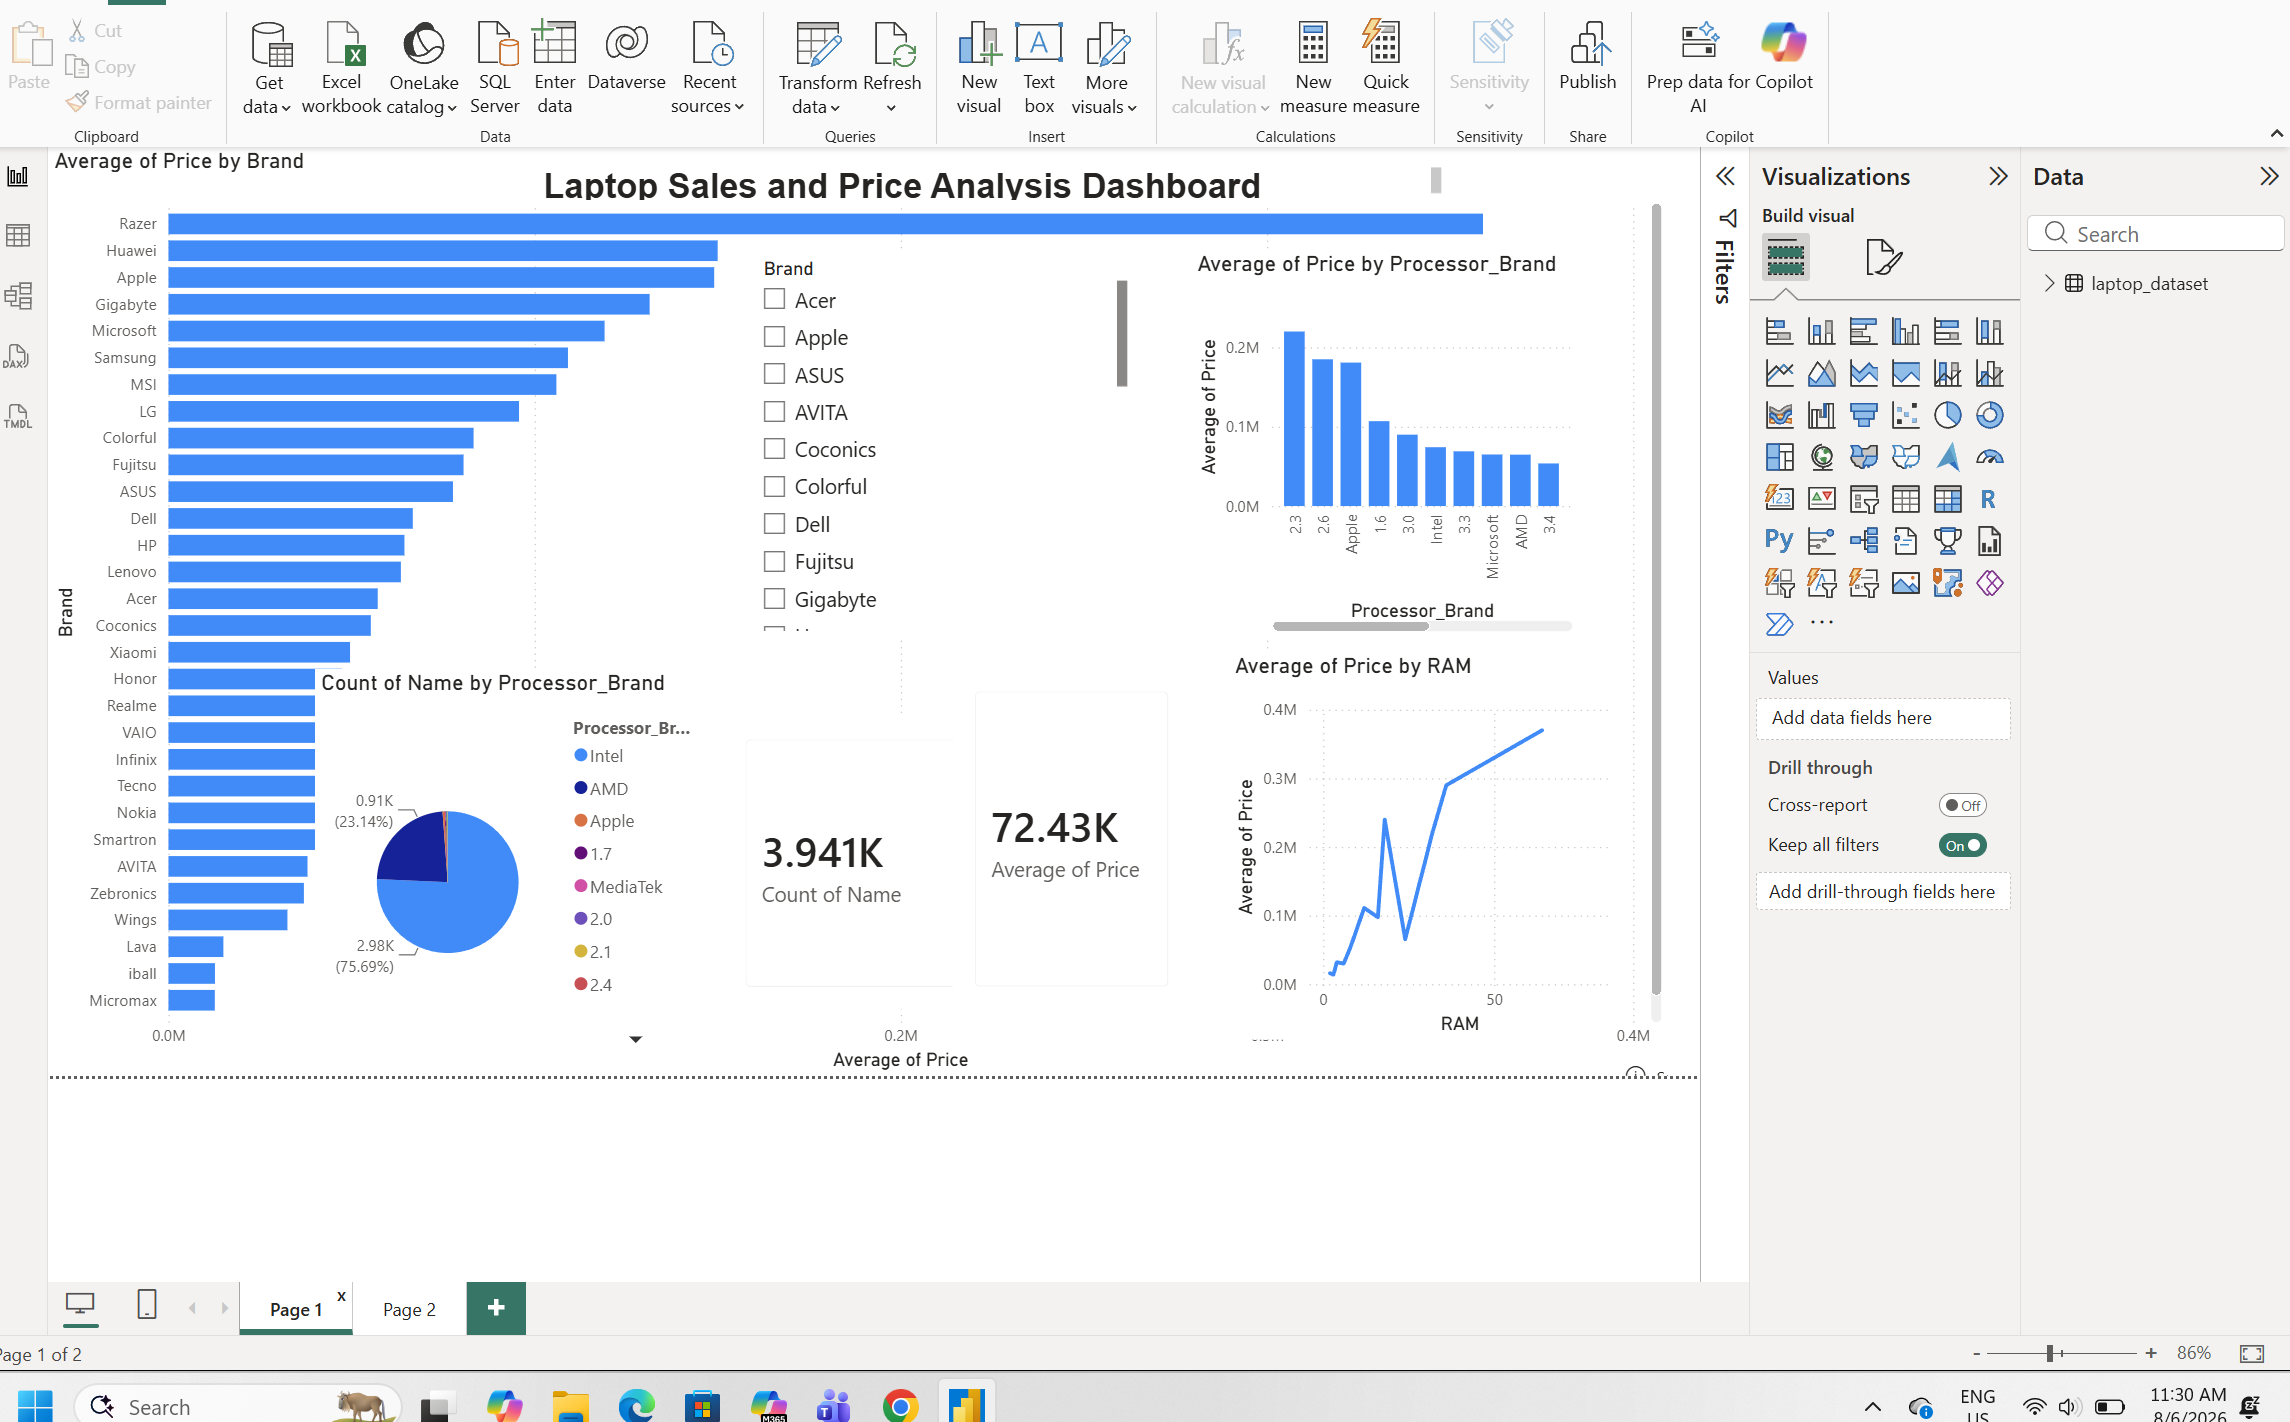

The dashboard page shown, as its layout file describes it:
{"tool":"powerbi","page":{"name":"Page 1","canvas":[1280,720],"ordinal":0},"visuals":[{"type":"clusteredBarChart","fields":{"Y":["Avg(laptop_dataset.Price)"],"Category":["laptop_dataset.Brand"]},"box":[0,0,1254.9,720],"z":0},{"type":"pieChart","fields":{"Category":["laptop_dataset.Processor_Brand"],"Y":["Count(laptop_dataset.Name)"]},"box":[206.9,404.5,300,300],"z":1000},{"type":"cardVisual","box":[1214.5,704.3,40.7,15.1],"z":2000},{"type":"cardVisual","fields":{"Data":["Count(laptop_dataset.Name)"]},"box":[523,441.6,235.9,226.6],"z":3000},{"type":"cardVisual","fields":{"Data":["Avg(laptop_dataset.Price)"]},"box":[700.8,404.5,184.8,263.8],"z":4000},{"type":"lineChart","fields":{"Category":["laptop_dataset.RAM"],"Y":["Avg(laptop_dataset.Price)"]},"box":[914.7,391.7,300,300],"z":5000},{"type":"clusteredColumnChart","fields":{"Category":["laptop_dataset.Processor_Brand"],"Y":["Avg(laptop_dataset.Price)"]},"box":[885.6,80.2,300,300],"z":6000},{"type":"slicer","fields":{"Values":["laptop_dataset.Brand"]},"box":[541.6,80.2,299.9,299.9],"z":7000},{"type":"textbox","box":[378.9,10.5,705.5,34.9],"z":8000}]}

Visuals, with their boxes on the page's 1280x720 design canvas (x1, y1, x2, y2). These are canvas units, not pixel positions in the 2290x1422 screenshot, which may show the page scaled, cropped or inside an application window:
clusteredBarChart - Avg(laptop_dataset.Price) x laptop_dataset.Brand: detection(0, 0, 1255, 720)
pieChart - laptop_dataset.Processor_Brand x Count(laptop_dataset.Name): detection(207, 404, 507, 704)
cardVisual: detection(1214, 704, 1255, 719)
cardVisual - Count(laptop_dataset.Name): detection(523, 442, 759, 668)
cardVisual - Avg(laptop_dataset.Price): detection(701, 404, 886, 668)
lineChart - laptop_dataset.RAM x Avg(laptop_dataset.Price): detection(915, 392, 1215, 692)
clusteredColumnChart - laptop_dataset.Processor_Brand x Avg(laptop_dataset.Price): detection(886, 80, 1186, 380)
slicer - laptop_dataset.Brand: detection(542, 80, 842, 380)
textbox: detection(379, 10, 1084, 45)
